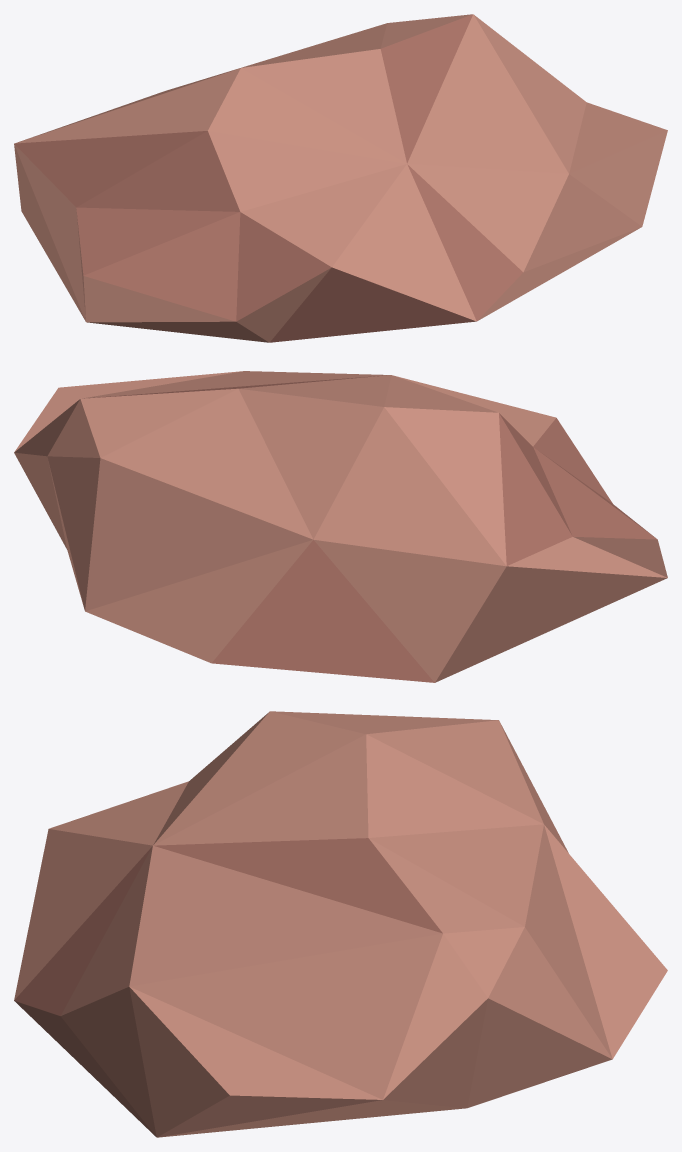
The model's file is hall_4.glb.
3 renders of one model, top to bottom at view 1: azimuth 30°, elevation 25°; view 2: azimuth 150°, elevation 25°; view 3: azimuth 270°, elevation 25°, orthographic. The views are drawn at different scales.
Visible parts, largest first — view 1: hall_4; view 2: hall_4; view 3: hall_4.
Part boxes in pixels (x1,y1,x2,y2): hall_4: [14, 14, 667, 342]; hall_4: [14, 371, 667, 682]; hall_4: [14, 711, 667, 1137].
Size of the model in its own units: 2.88 by 0.8157 by 2.26.
